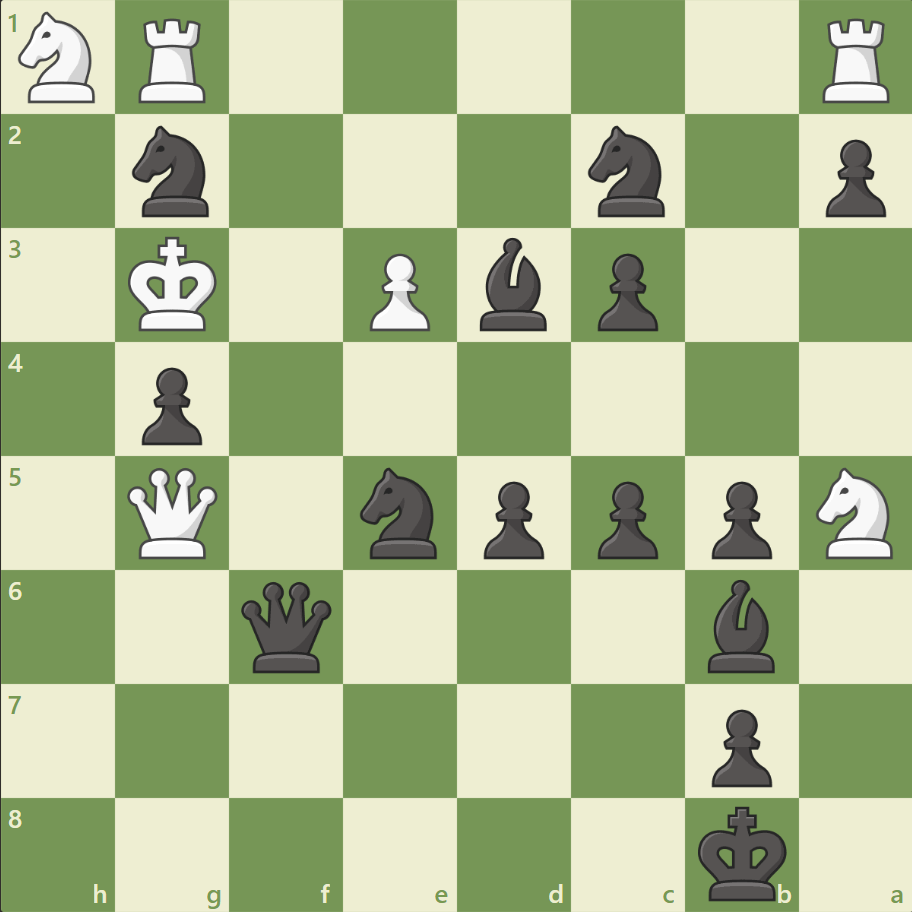K: (124, 231, 224, 339)
N: (806, 461, 903, 564), (11, 7, 108, 110)
P: (361, 246, 435, 337)
Q: (124, 463, 223, 562)
R: (814, 12, 897, 109), (133, 12, 215, 109)
b: (471, 233, 555, 336), (698, 574, 782, 676)
k: (692, 798, 792, 906)
n: (351, 461, 449, 564), (124, 121, 222, 223), (579, 121, 676, 223)
p: (701, 700, 776, 791), (701, 473, 776, 564), (474, 473, 549, 564), (133, 359, 208, 450), (588, 473, 662, 564), (588, 246, 662, 337), (815, 132, 889, 223)
q: (237, 576, 336, 676)
